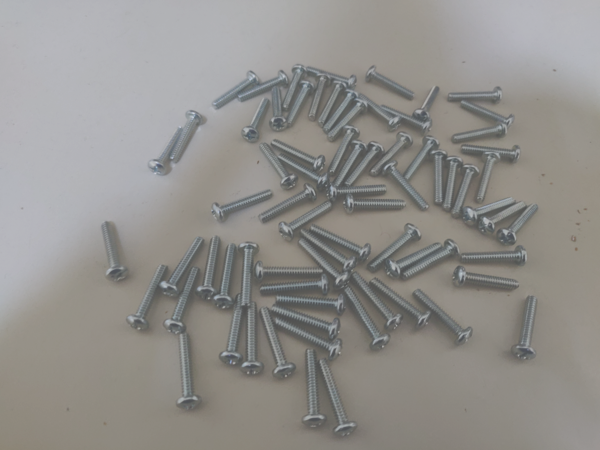longscrew: (417, 289, 472, 343), (345, 287, 388, 356), (270, 306, 340, 347), (273, 315, 342, 356), (322, 357, 356, 439), (354, 272, 402, 328), (373, 277, 430, 324), (293, 242, 349, 288), (161, 239, 206, 296), (258, 308, 295, 377), (371, 224, 426, 268), (302, 231, 358, 272), (130, 266, 165, 331), (403, 241, 461, 280), (259, 184, 316, 223), (213, 183, 270, 222), (165, 267, 197, 336), (302, 348, 328, 432), (311, 224, 373, 256), (177, 327, 198, 420), (280, 152, 330, 190), (386, 163, 427, 209), (514, 293, 539, 364), (100, 223, 129, 284), (382, 243, 443, 272), (330, 94, 370, 138), (212, 69, 258, 107), (280, 204, 331, 238), (365, 64, 416, 98), (258, 274, 330, 298), (258, 145, 298, 188), (375, 131, 413, 176), (234, 70, 289, 101), (254, 260, 325, 284), (451, 268, 522, 292), (476, 200, 526, 234), (324, 127, 362, 171), (329, 142, 367, 186), (347, 142, 385, 186), (274, 137, 326, 169), (276, 295, 348, 318), (404, 135, 440, 179), (221, 296, 243, 366), (464, 99, 516, 128), (198, 238, 221, 303), (241, 304, 262, 375), (450, 164, 478, 217), (503, 204, 542, 242), (361, 91, 401, 128), (465, 198, 517, 225), (382, 104, 434, 131), (151, 128, 182, 173), (306, 60, 358, 86), (324, 89, 355, 132), (451, 245, 533, 261), (326, 180, 389, 200), (238, 240, 257, 306), (173, 111, 196, 164), (343, 196, 407, 215), (217, 246, 236, 307), (452, 122, 509, 142), (242, 97, 267, 142), (448, 84, 507, 103), (445, 154, 463, 212), (320, 79, 342, 126), (462, 143, 521, 160), (481, 153, 499, 206), (430, 148, 446, 206), (416, 84, 440, 122), (288, 80, 307, 128), (285, 63, 304, 109), (311, 72, 326, 124), (270, 86, 286, 132)
